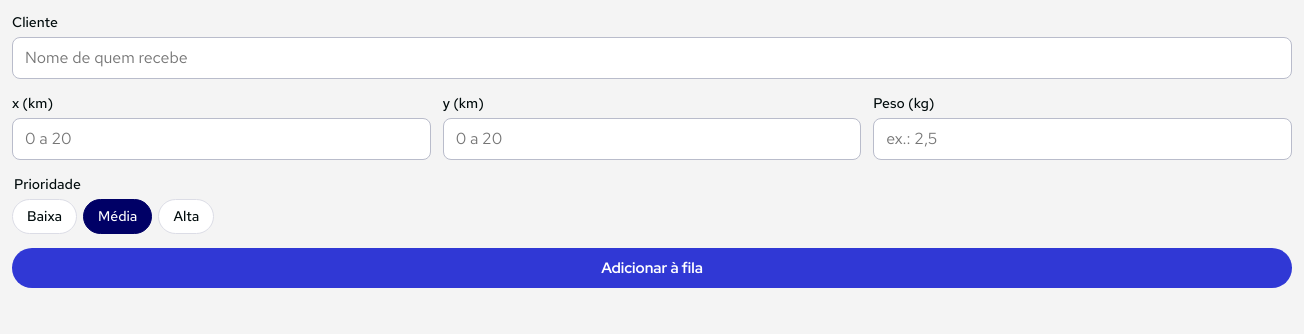
Test: <PedidoForm /> › não envia com campos vazios e mostra o erro em cada campo
Click the button "Adicionar à fila" at (652, 268), box [12,248,1292,288]
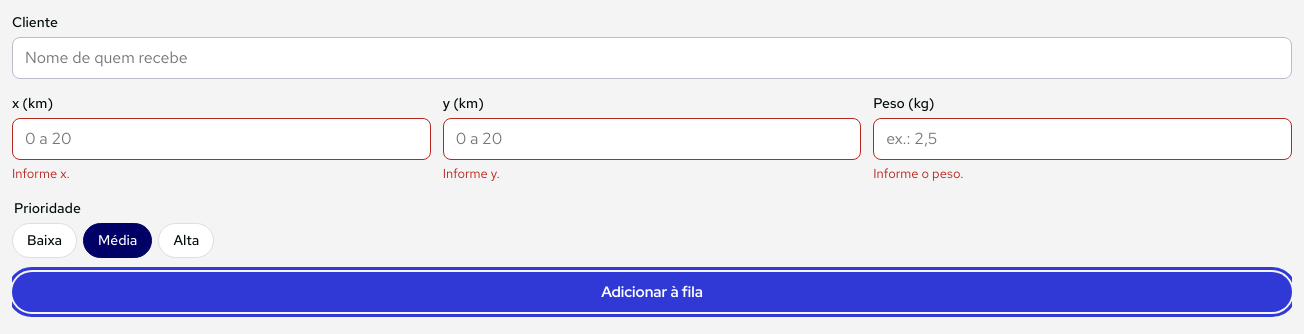
Expected: the text "Informe x." is shown, [12,165,70,182]
Expected: the text "Informe o peso." is shown, [873,165,963,182]
